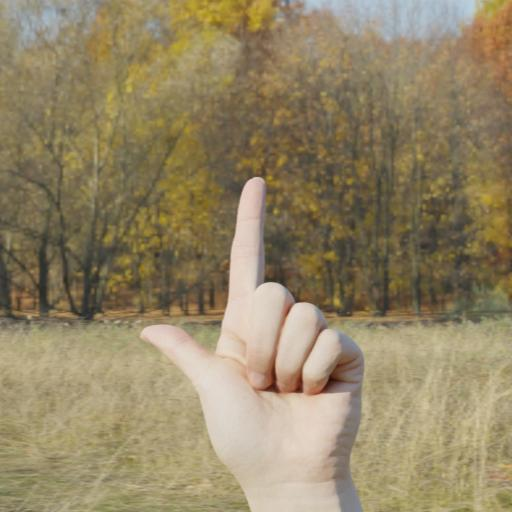L: (138, 163, 388, 512)
